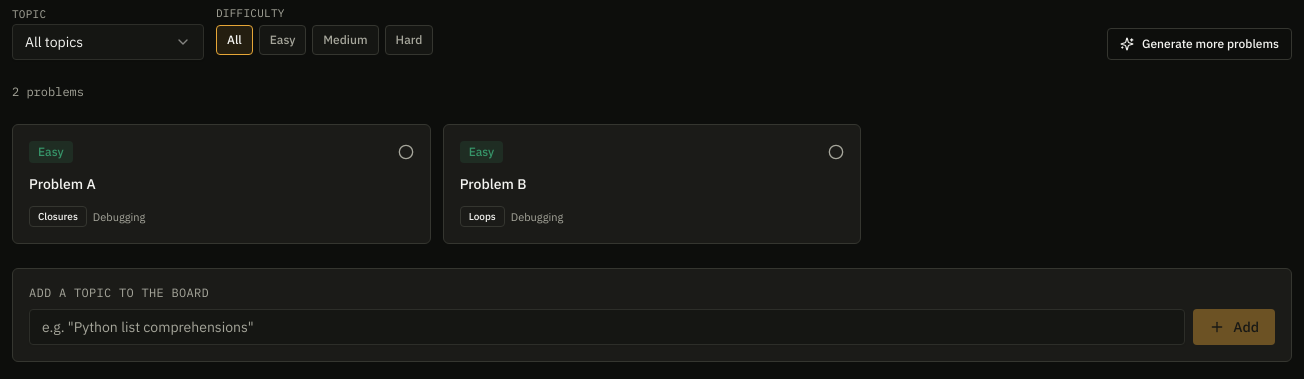
Test: PracticeBoard › filters the visible problems by topic
The width and height of the screenshot is (1304, 379).
Expected: the text "Problem A" is shown, [29,175,96,193]
Expected: the text "Problem B" is shown, [460,175,526,193]
What coordinates should you click on to do the following:
click the dropdown
I would click on:
 (108, 42)
Its box is [12,24,204,60].
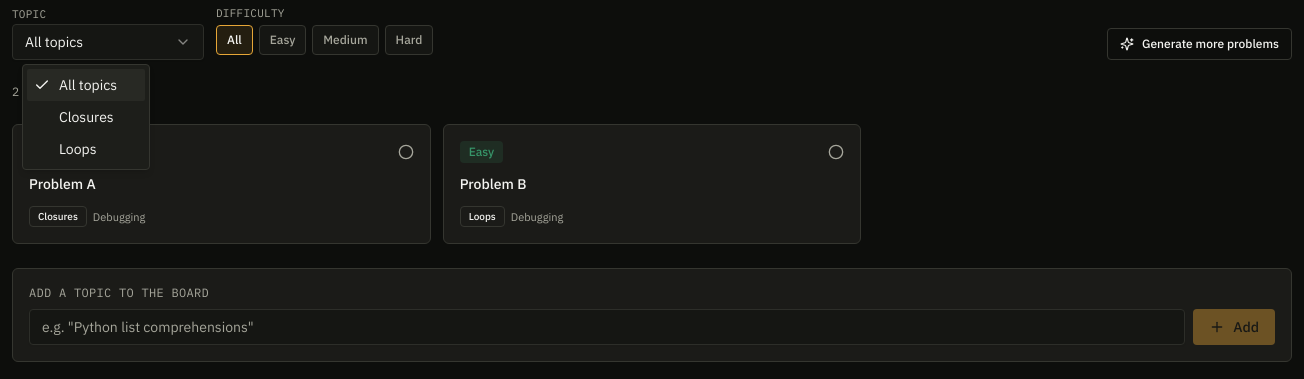
What coordinates should you click on to do the following:
click the option "Closures"
I would click on:
 (86, 117)
Its box is [59,108,114,126].
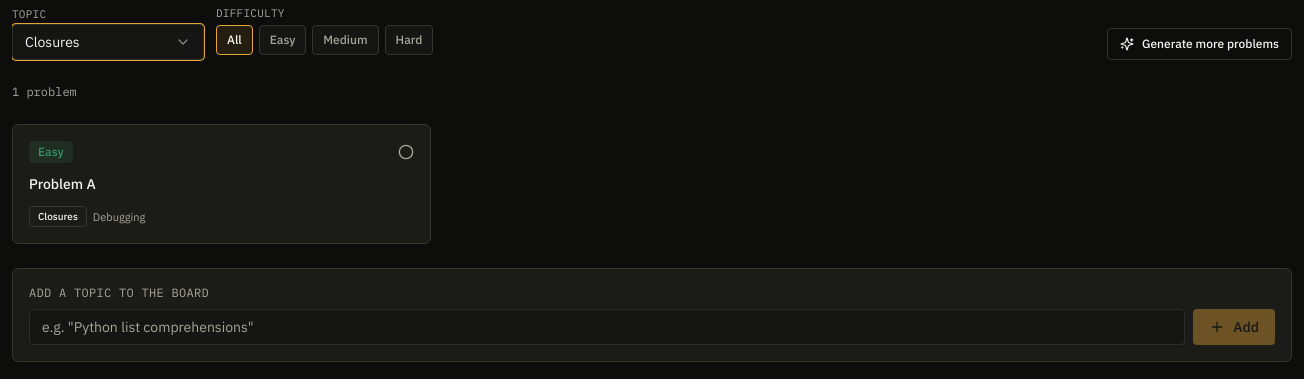
Expected: the text "Problem A" is shown, [29,175,96,193]
Expected: the link "Problem B" is gone
